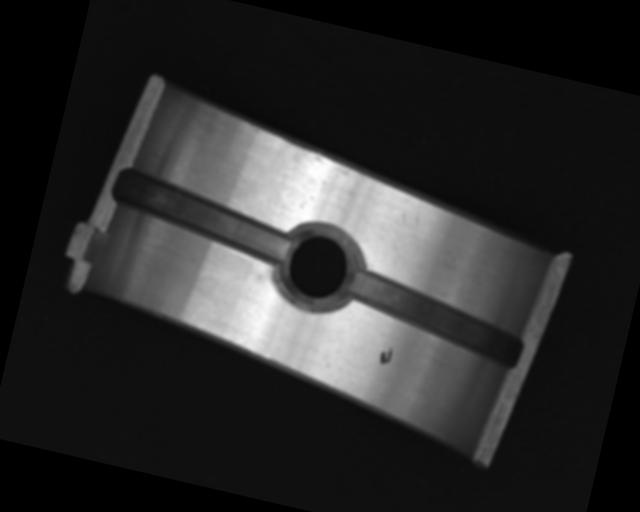blot: (378, 344, 395, 367)
gap: (105, 164, 302, 268), (341, 264, 530, 368)
hole: (275, 219, 367, 314)
